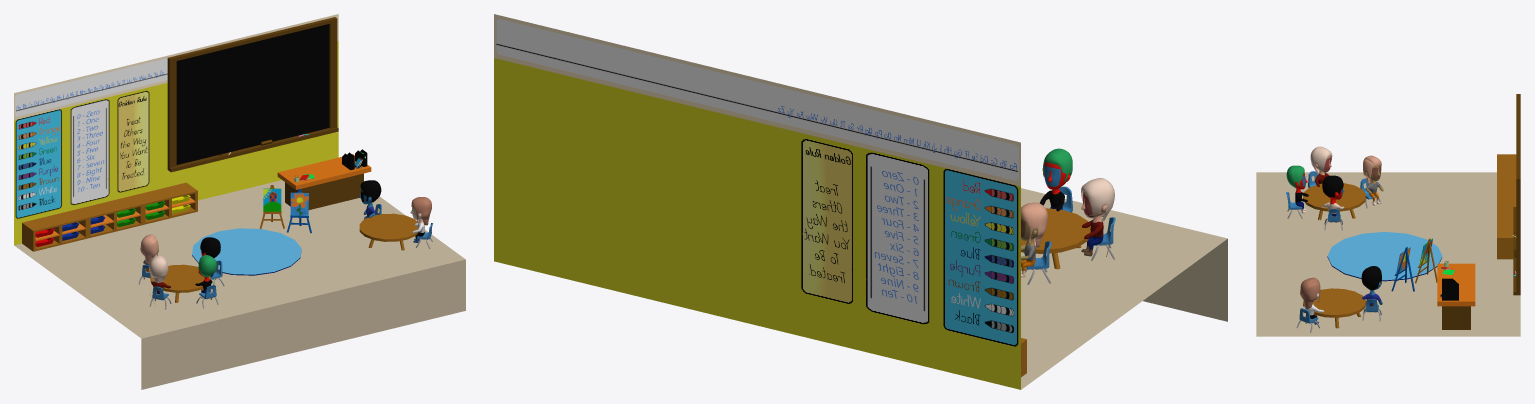
File: Class Room - Kindergarten Updated.fbx
The picture shows the model from 3 angles, left to right: view 1: azimuth 30°, elevation 25°; view 2: azimuth 150°, elevation 25°; view 3: azimuth 270°, elevation 25°; orthographic projection. The views are drawn at different scales.
Parts seen in each view (by area): view 1: Classroom.007; view 2: Classroom.007; view 3: Classroom.007.
Boxes of the visible parts, x1,y1,x2,y2 form: Classroom.007: [14, 14, 465, 389]; Classroom.007: [494, 14, 1227, 389]; Classroom.007: [1256, 94, 1520, 336].
Bounding box in the file's own units: 762 × 457 × 518.
